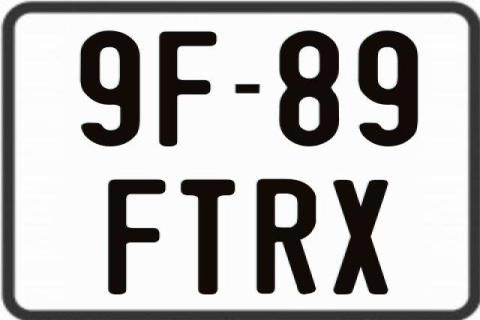0: (356, 28, 420, 148), (79, 30, 141, 148), (279, 30, 340, 148)
F: (158, 29, 219, 149), (105, 179, 167, 297)
R: (254, 177, 316, 293)
T: (178, 178, 232, 298)
X: (332, 179, 388, 297)
